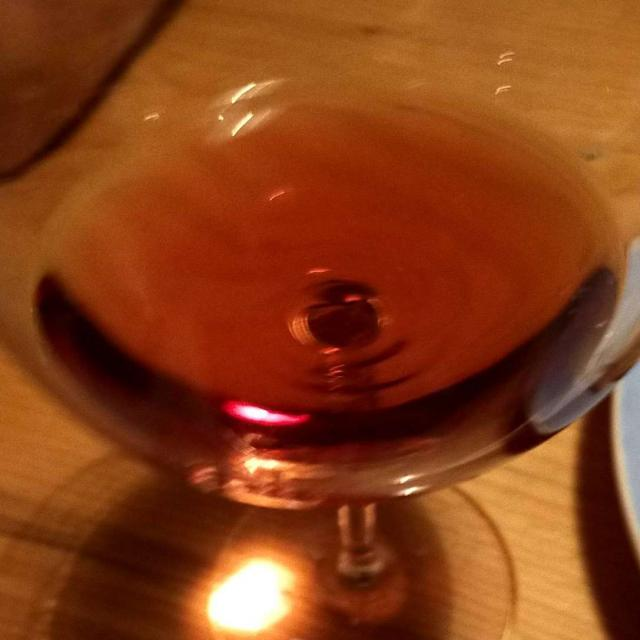wine-red: (48, 92, 613, 525)
